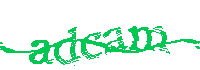a: (29, 40, 52, 66), (104, 27, 127, 53)
c: (82, 31, 102, 59)
d: (54, 26, 80, 65)
m: (129, 24, 169, 53)
